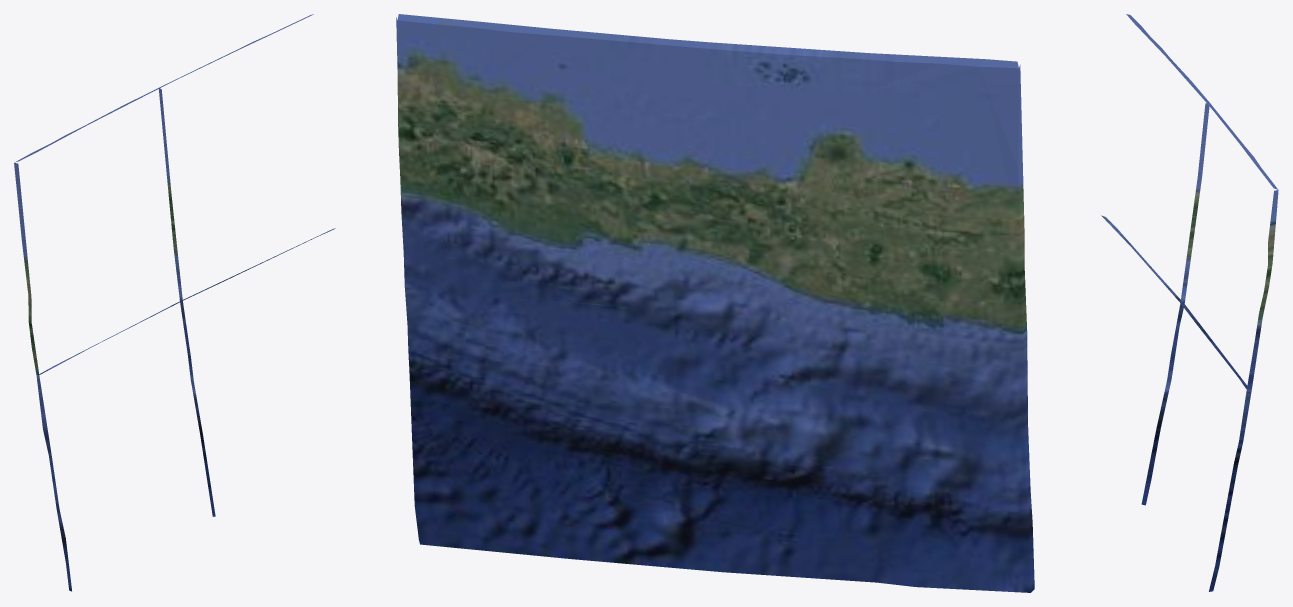
3 views of the same model, side by side, from view 1: azimuth 30°, elevation 25°; view 2: azimuth 150°, elevation 25°; view 3: azimuth 270°, elevation 25° (orthographic). The views are drawn at different scales.
Bounding box in the file's own units: 621905 × 622983 × 305909.
Materials: 1 (1 with a texture image).
